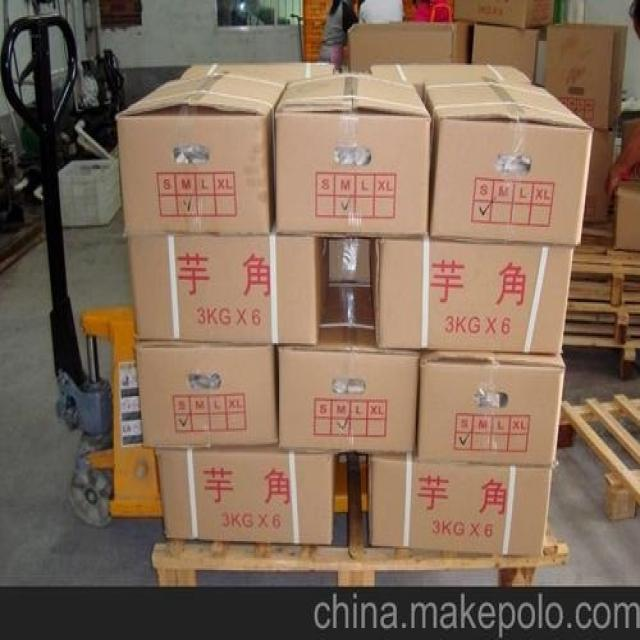box: (422, 77, 594, 246), (115, 73, 284, 237), (274, 70, 431, 239), (276, 285, 420, 454), (370, 237, 575, 355), (128, 237, 329, 346), (367, 454, 550, 556), (154, 445, 334, 544), (416, 352, 566, 469), (136, 343, 276, 449), (544, 24, 627, 130), (349, 20, 471, 72), (370, 63, 539, 99), (471, 22, 539, 82), (179, 61, 334, 85), (584, 121, 618, 224), (453, 0, 554, 27), (329, 237, 370, 288), (614, 179, 640, 251)
